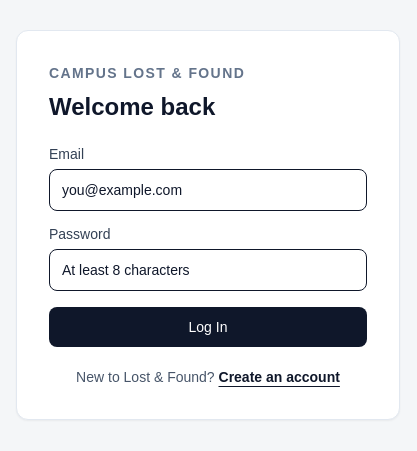
Scenario: LoginPage › sends nothing to the API while the form is invalid
The image size is (417, 451).
In the field labelled "Email": coordinates (208, 190) [49,169,367,211], type "juan@dlsl.edu.ph"
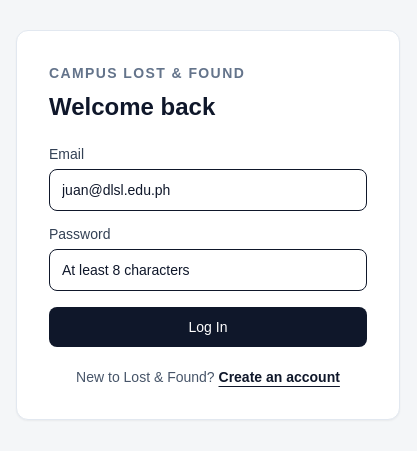
In the password field labelled "Password": coordinates (208, 270) [49,249,367,291], type "short"
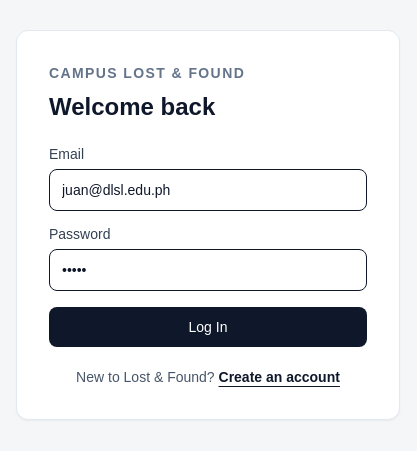
Click the button "Log In": coordinates (208, 327) [49,307,367,347]
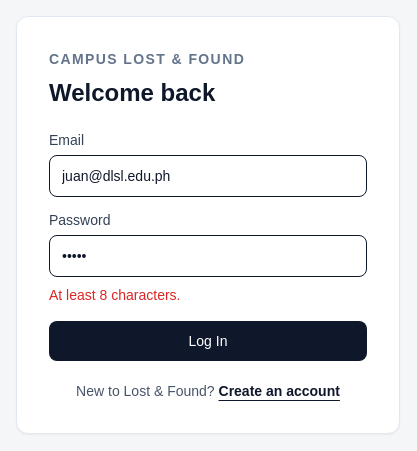
expect the text "At least 8 characters." is shown: met, box [49,287,180,303]
